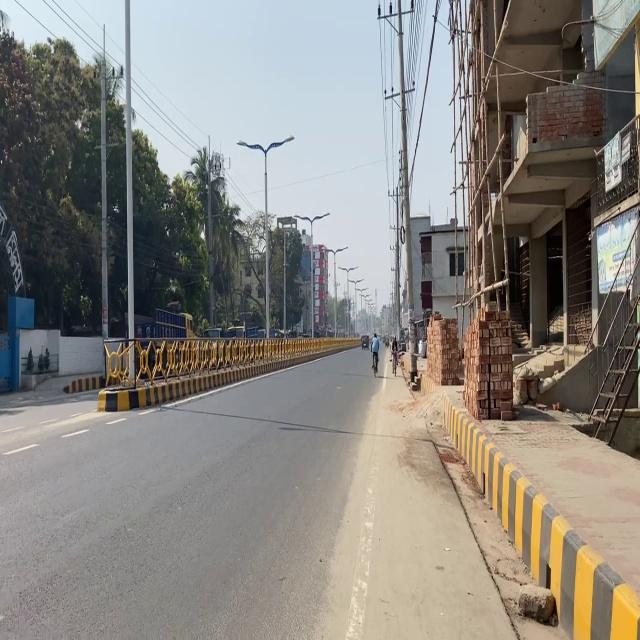Construction-barrier: (435, 389, 639, 638)
Dog: (461, 305, 515, 420)
Fallen-tree: (389, 348, 404, 375), (371, 351, 378, 372)
Garbage: (587, 295, 639, 449)
Garbage-bin: (370, 332, 379, 371)
Light-pole: (122, 1, 135, 382)
Pole: (76, 342, 342, 396)
Pothole: (399, 340, 640, 640)
